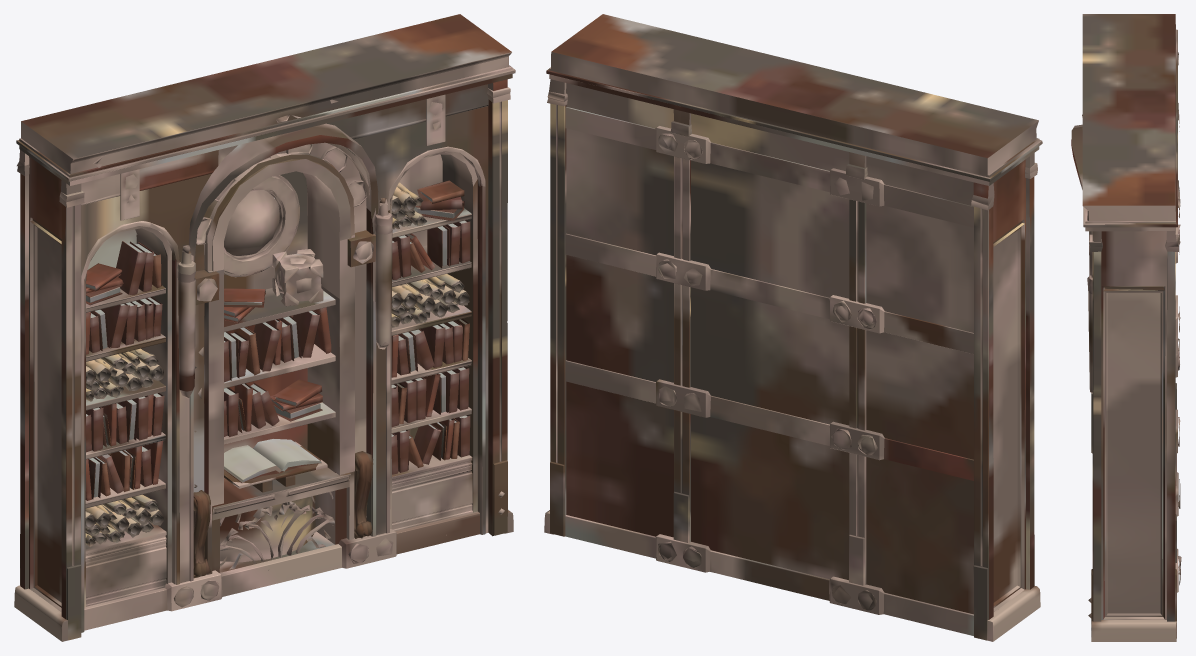
The model's file is StructureBP_LibraryStorage_C.glb.
3 views of the same model, side by side, from view 1: azimuth 30°, elevation 25°; view 2: azimuth 150°, elevation 25°; view 3: azimuth 270°, elevation 25° (orthographic). The views are drawn at different scales.
Visible parts, largest first — view 1: SM_LibraryStorage; view 2: SM_LibraryStorage; view 3: SM_LibraryStorage.
Part boxes in pixels (box(x1,y1,x2,y2)): SM_LibraryStorage: box(14, 14, 515, 641); SM_LibraryStorage: box(544, 14, 1042, 641); SM_LibraryStorage: box(1071, 14, 1181, 641).
Size of the model in its own units: 2.53 by 2.59 by 0.597.
1 material, 1 textured.
